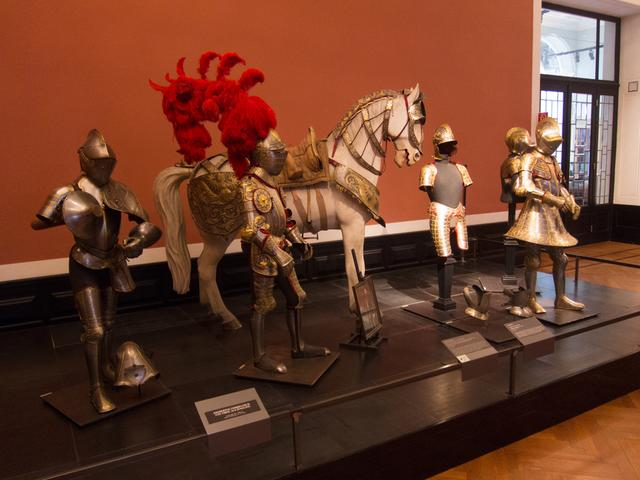horse: (139, 75, 454, 331)
